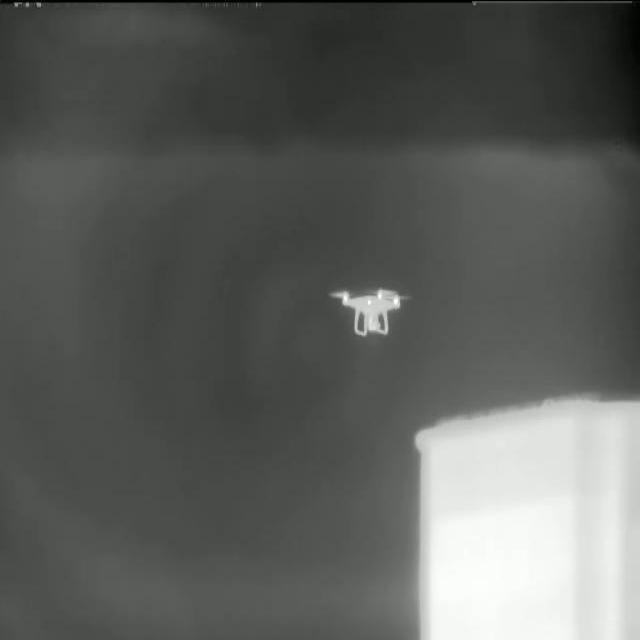DRONE: (327, 285, 416, 339)
